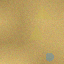person: (45, 52, 53, 61)
structure: (33, 6, 52, 19), (28, 24, 43, 40)
